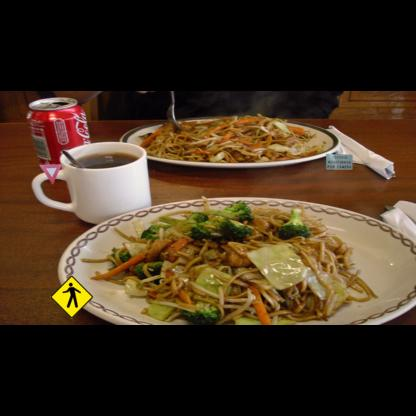A-32a: (50, 275, 93, 318)
I-E: (326, 154, 352, 170)
